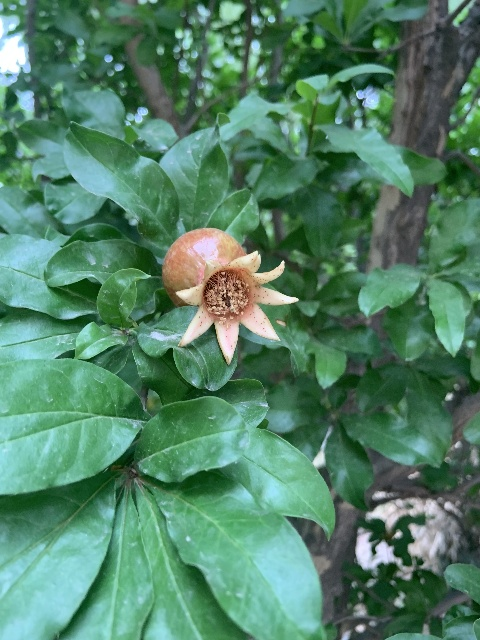early-fruit: (160, 227, 297, 365)
